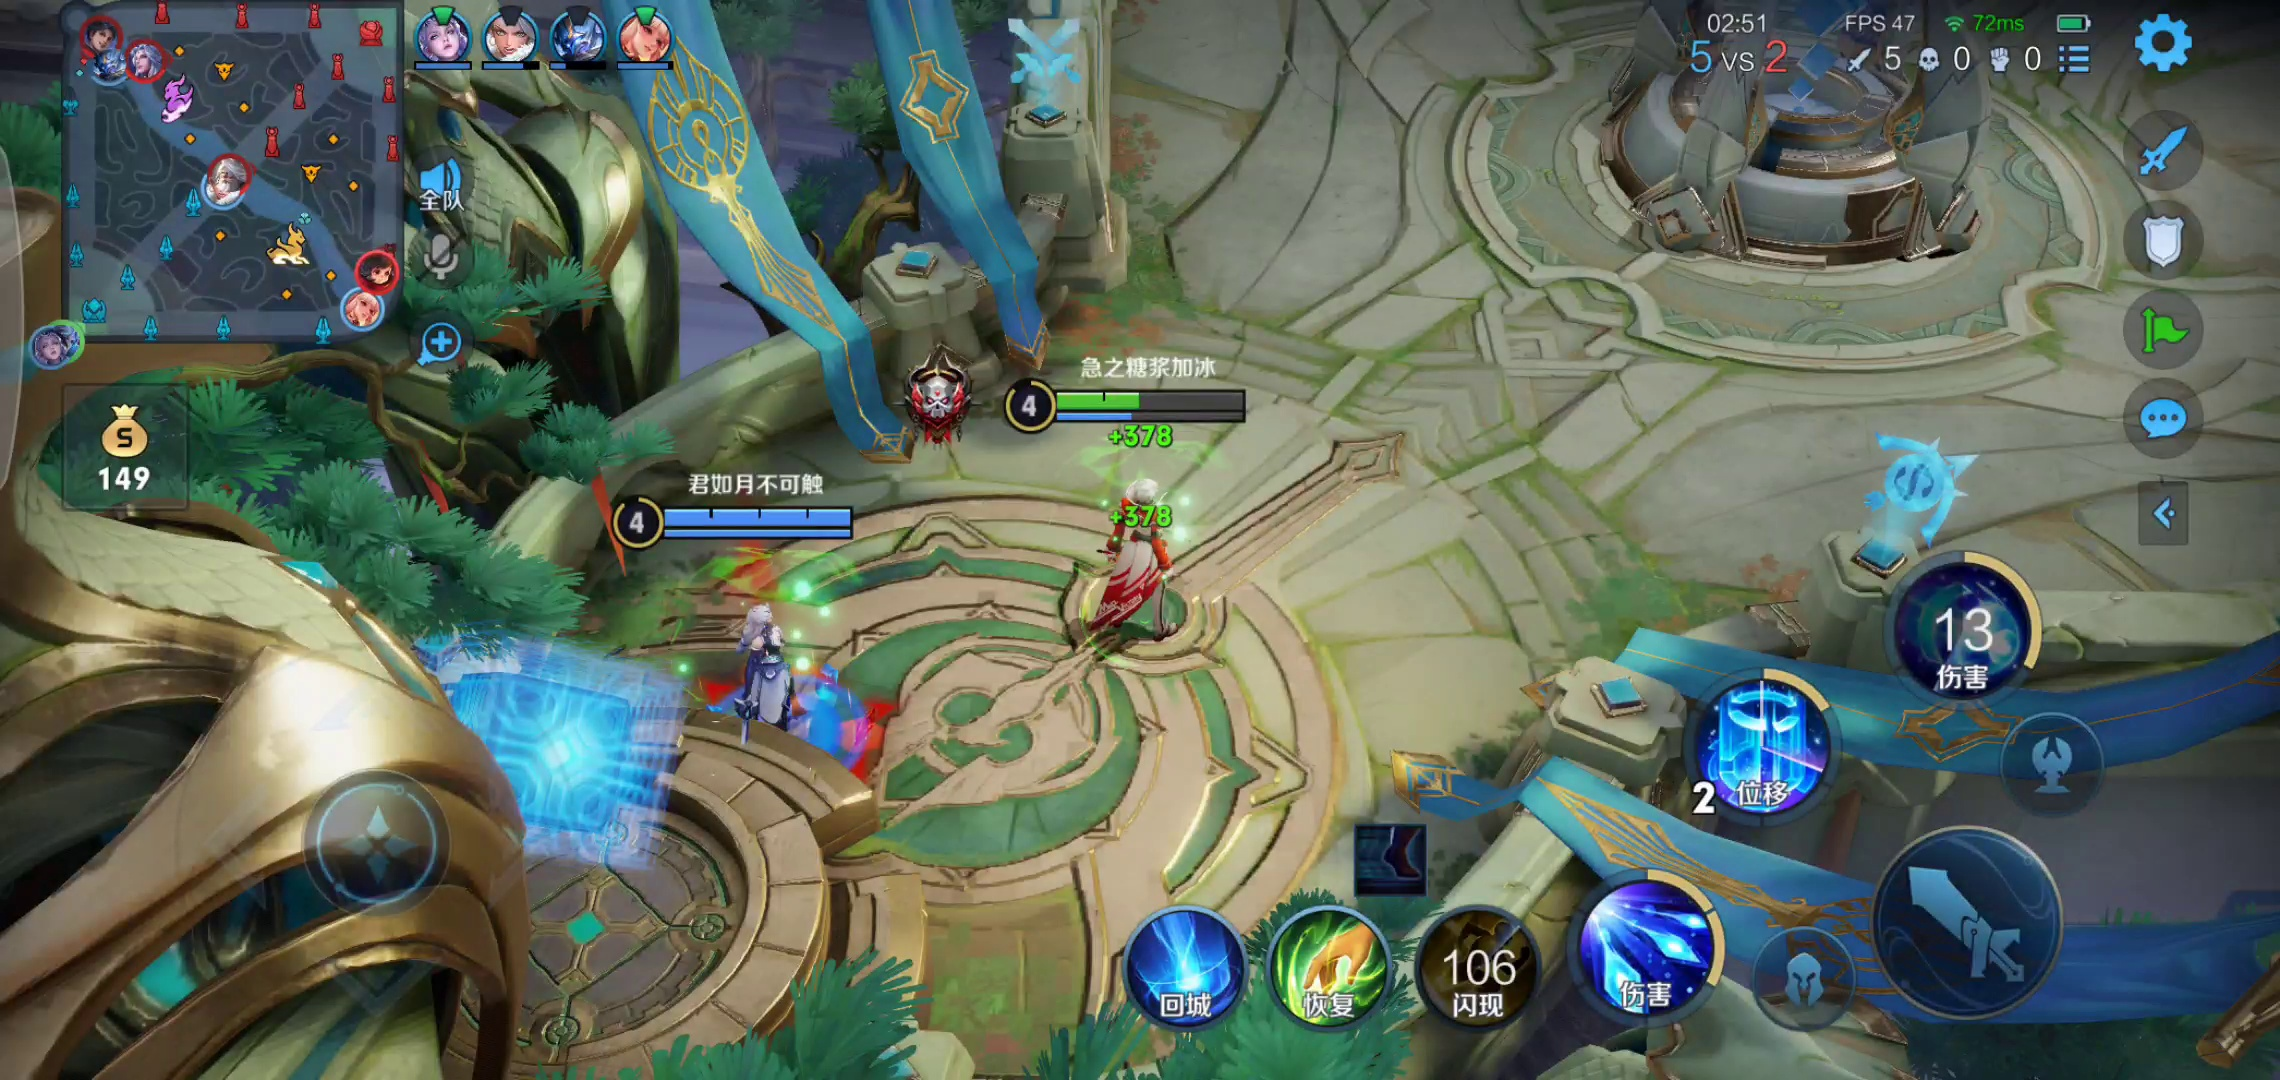crystal: (1573, 1, 2040, 272)
hero: (678, 579, 899, 791), (1075, 456, 1203, 644)
